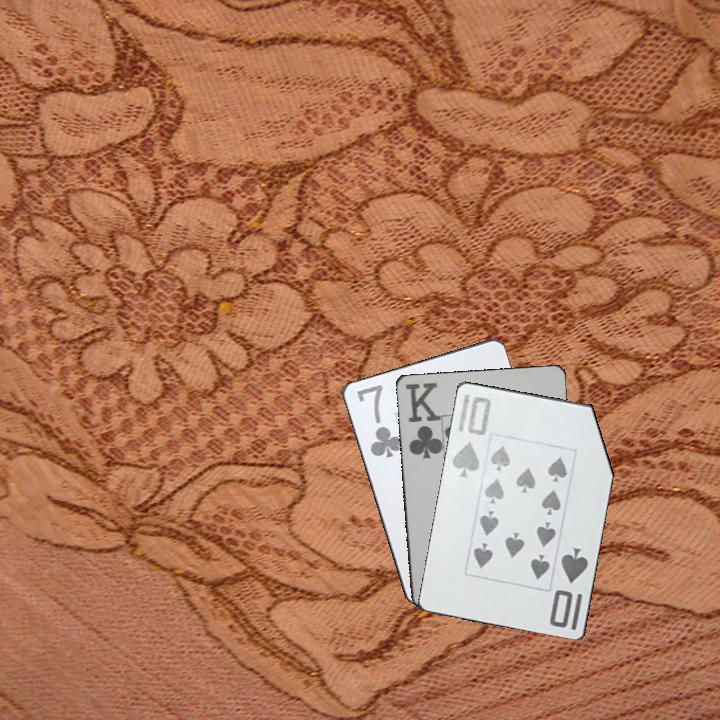7c: (353, 381, 403, 461)
Kc: (401, 378, 442, 464)
Ts: (546, 544, 591, 633), (448, 392, 494, 479)
